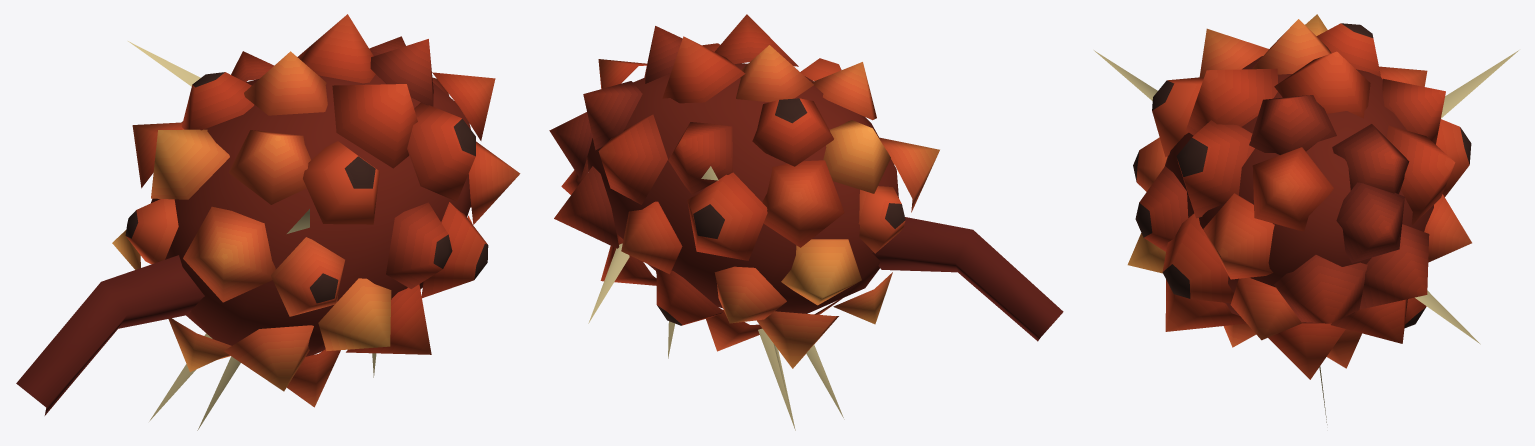
Rendered from tbs.glb.
The picture shows the model from 3 angles, left to right: view 1: azimuth 30°, elevation 25°; view 2: azimuth 150°, elevation 25°; view 3: azimuth 270°, elevation 25°; orthographic projection. The views are drawn at different scales.
Visible parts, largest first — view 1: tbs_mesh; view 2: tbs_mesh; view 3: tbs_mesh.
Part boxes in pixels (x1,y1,x2,y2): tbs_mesh: [16, 14, 520, 430]; tbs_mesh: [549, 14, 1063, 430]; tbs_mesh: [1094, 14, 1518, 424].
Size of the model in its own units: 0.5948 by 0.4355 by 0.4248.
1 material, 1 textured.
